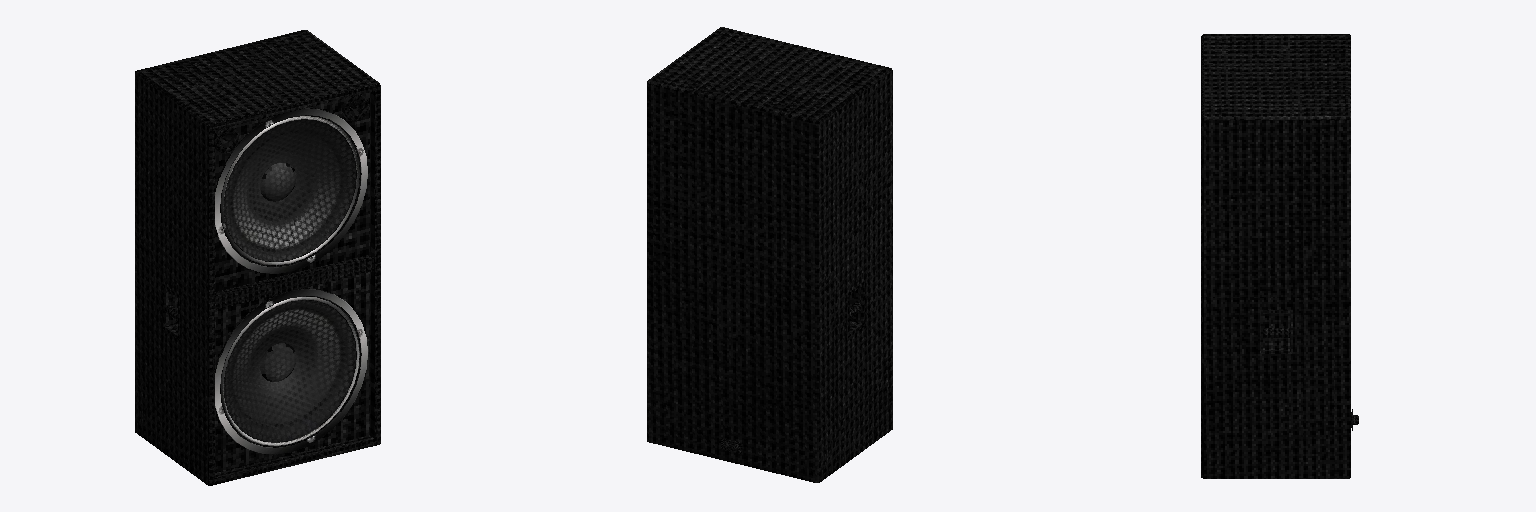
The picture shows the model from 3 angles: view 1: azimuth 30°, elevation 25°; view 2: azimuth 150°, elevation 25°; view 3: azimuth 270°, elevation 25°; orthographic projection.
Parts seen in each view (by area): view 1: bocina; view 2: bocina; view 3: bocina.
Boxes of the visible parts, x1,y1,x2,y2 form: bocina: [135, 30, 380, 485]; bocina: [647, 27, 892, 482]; bocina: [1201, 34, 1358, 478].
Bounding box in the file's own units: 1.64 × 3.26 × 1.29.
Materials: 1 (1 with a texture image).